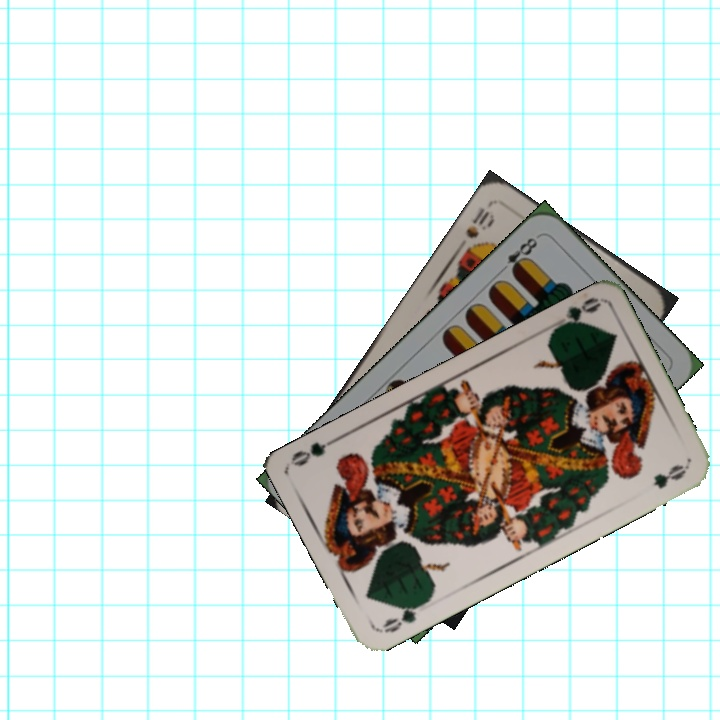E8: (495, 231, 543, 278)
GO: (549, 293, 602, 336), (378, 598, 430, 636)
S10: (461, 203, 497, 255)
